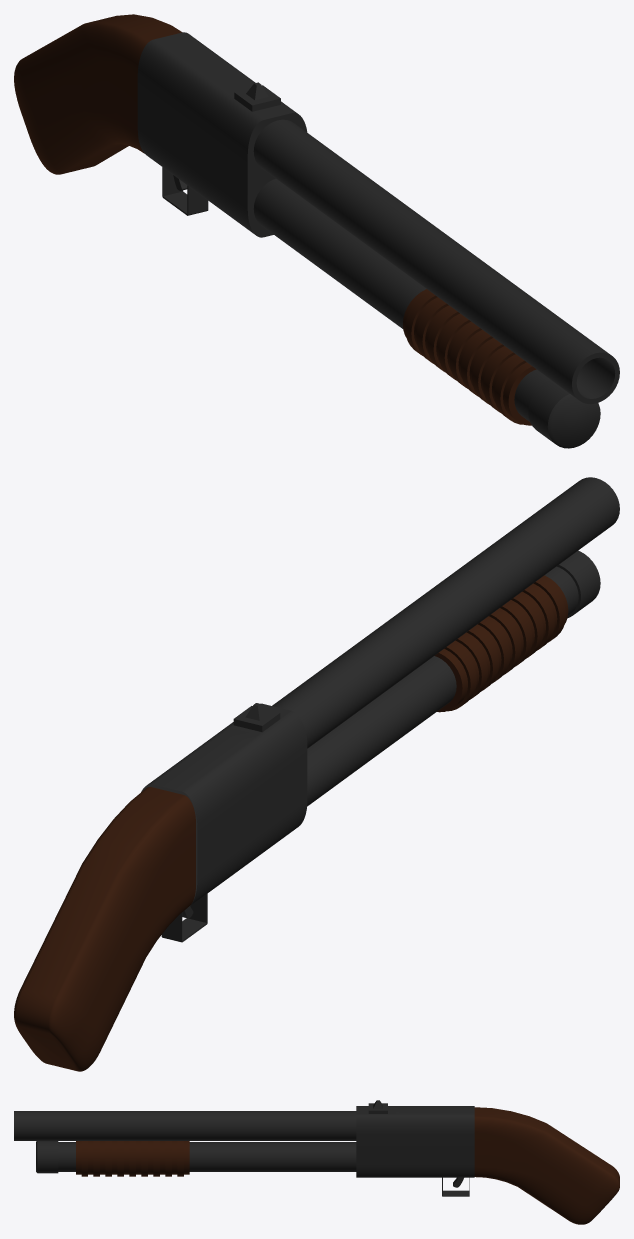
Rendered from shotgun.fbx.
The picture shows the model from 3 angles, top to bottom: view 1: azimuth 30°, elevation 25°; view 2: azimuth 150°, elevation 25°; view 3: azimuth 270°, elevation 25°; orthographic projection. The views are drawn at different scales.
Parts seen in each view (by area): view 1: Cube, Cube.001; view 2: Cube, Cube.001; view 3: Cube, Cube.001.
Boxes of the visible parts, x1=… form: Cube: x1=14, y1=14, x2=619, y2=448; Cube.001: x1=403, y1=289, x2=536, y2=425; Cube: x1=14, y1=477, x2=619, y2=1071; Cube.001: x1=434, y1=575, x2=568, y2=712; Cube: x1=14, y1=1100, x2=619, y2=1224; Cube.001: x1=76, y1=1141, x2=189, y2=1176.
Bounding box in the file's own units: 10.52 × 35.35 × 162.
